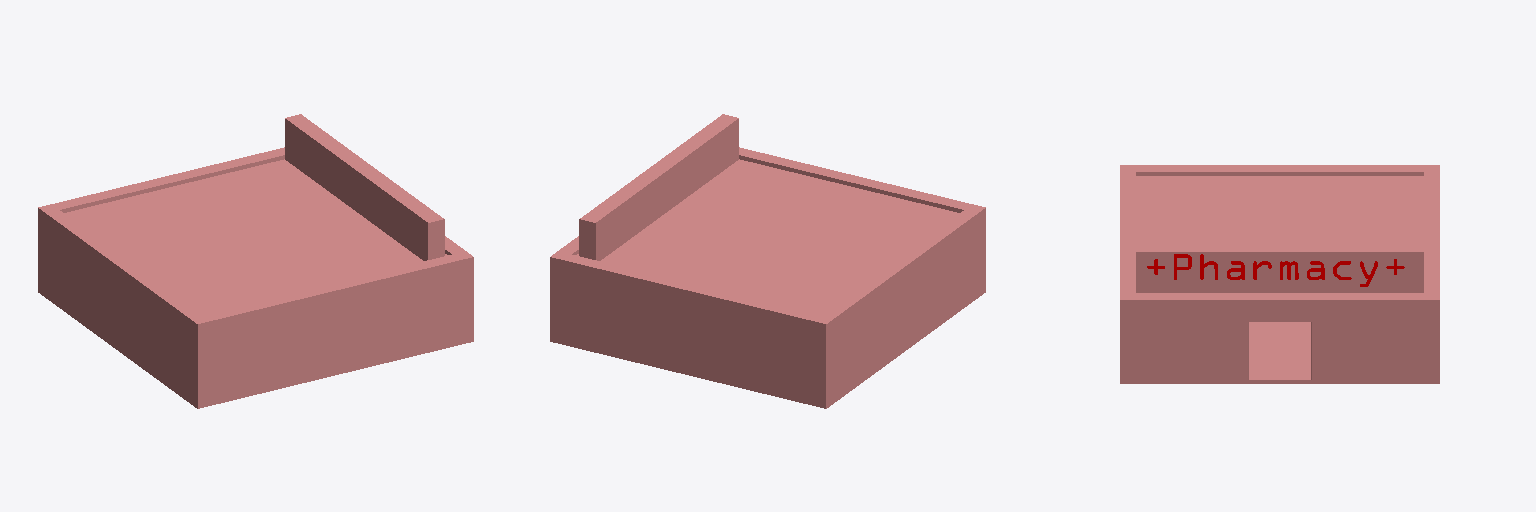
The model's file is Pharmacy_001.obj.
The picture shows the model from 3 angles: view 1: azimuth 30°, elevation 25°; view 2: azimuth 150°, elevation 25°; view 3: azimuth 270°, elevation 25°; orthographic projection.
Parts seen in each view (by area): view 1: walls___roof, Box001; view 2: walls___roof, Box001; view 3: walls___roof, Box001, Text001.
Boxes of the visible parts, x1=… form: walls___roof: x1=38, y1=114, x2=473, y2=404; Box001: x1=38, y1=289, x2=473, y2=408; walls___roof: x1=550, y1=114, x2=985, y2=404; Box001: x1=550, y1=289, x2=985, y2=408; walls___roof: x1=1120, y1=165, x2=1439, y2=379; Box001: x1=1120, y1=322, x2=1439, y2=383; Text001: x1=1147, y1=254, x2=1404, y2=286.
Size of the model in its own units: 140 by 59 by 140.